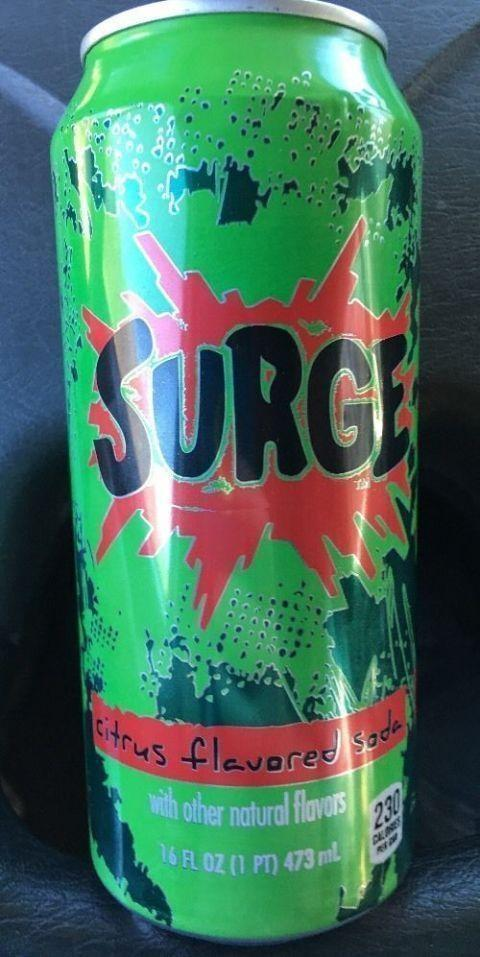tin can: (45, 0, 426, 956)
